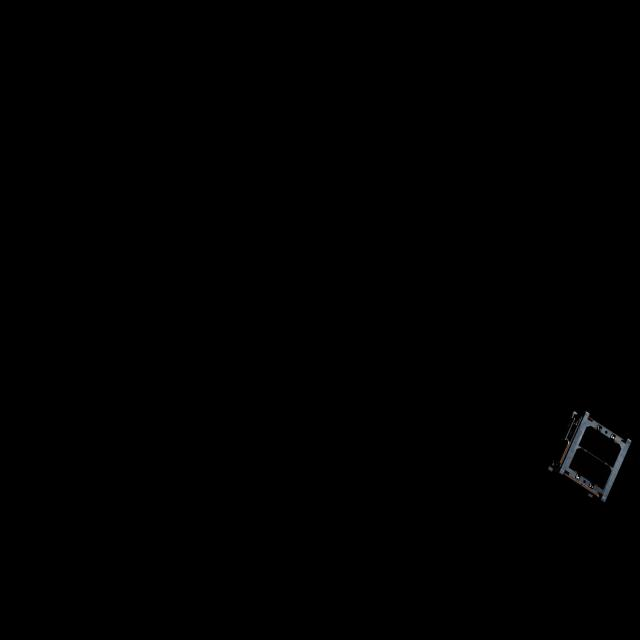medium_debris: (552, 409, 628, 505)
